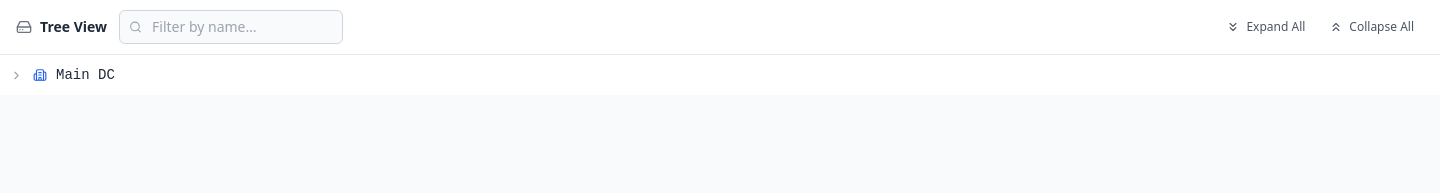
Scenario: TreeView page › shows 'No devices' hint when rack is empty
Check: the text "Main DC" is shown, box [56, 67, 115, 83]
What coordinates should you click on to do the following:
click the button named "Expand"
I would click on:
 (16, 75)
Its box is [6, 65, 26, 85].
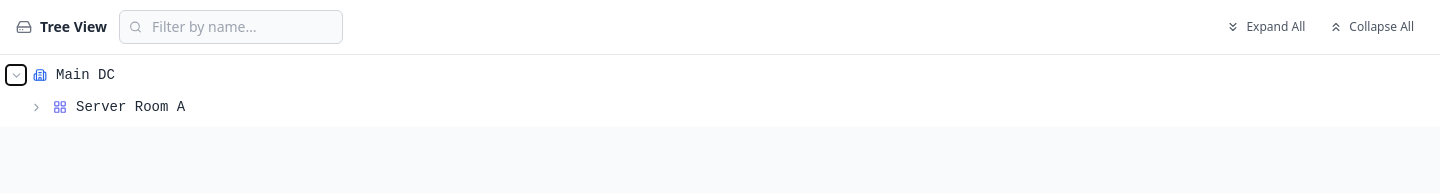
Check: the text "Server Room A" is shown, box [76, 99, 185, 115]
What coordinates should you click on to do the following:
click the button named "Expand"
I would click on:
 (36, 107)
Its box is [26, 97, 46, 117].
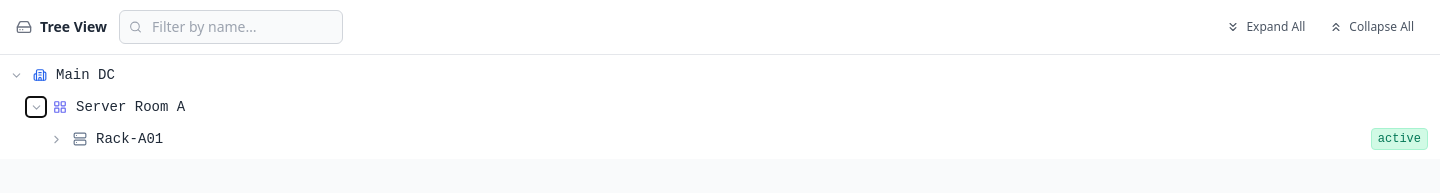
Check: the text "Rack-A01" is shown, box [96, 131, 163, 147]
What coordinates should you click on to do the following:
click the button named "Expand"
I would click on:
 (56, 139)
Its box is [46, 129, 66, 149].
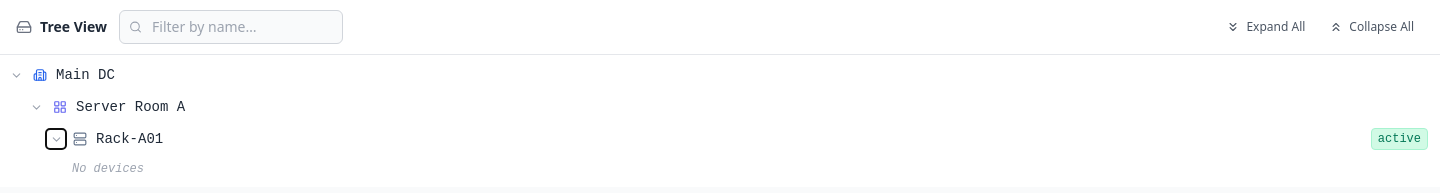
Check: the text "No devices" is shown, box [72, 162, 144, 176]
